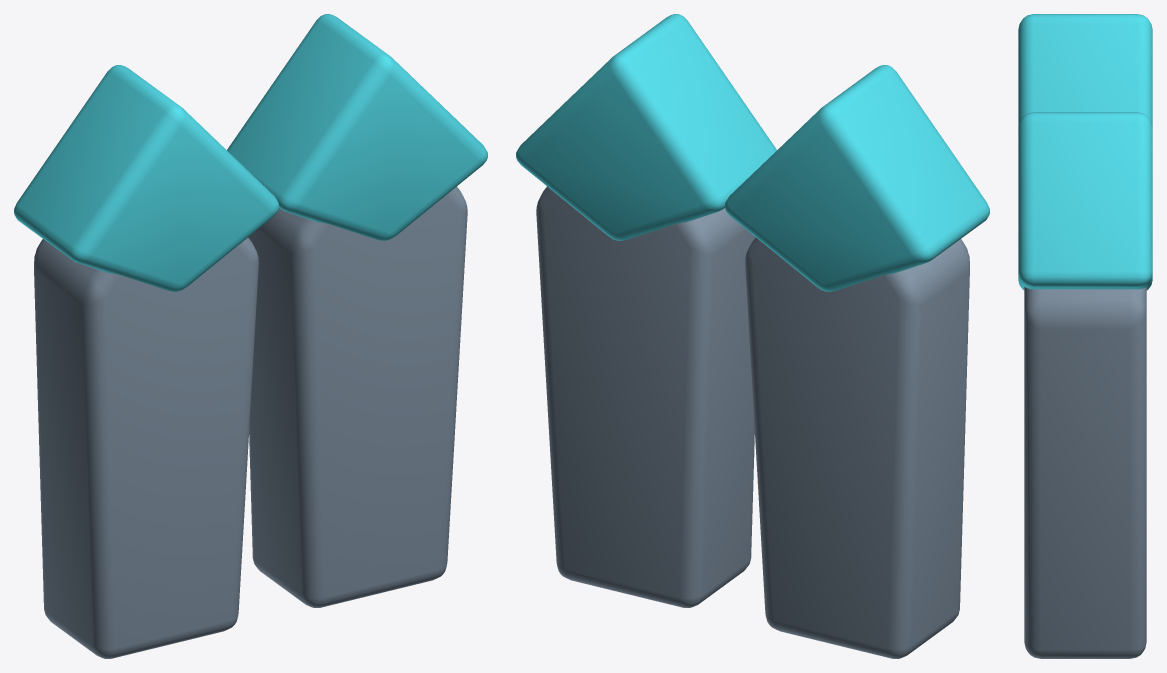
File: greaves_v4.glb
3 views of the same model, side by side, from view 1: azimuth 30°, elevation 25°; view 2: azimuth 150°, elevation 25°; view 3: azimuth 270°, elevation 25° (orthographic). The views are drawn at different scales.
Visible parts, largest first — view 1: WINGED_GREAVE_PRIMARY, WINGED_GREAVE_PRIMARY.001, WINGED_KNEE_ACCENT, WINGED_KNEE_ACCENT.001; view 2: WINGED_GREAVE_PRIMARY, WINGED_GREAVE_PRIMARY.001, WINGED_KNEE_ACCENT, WINGED_KNEE_ACCENT.001; view 3: WINGED_GREAVE_PRIMARY.001, WINGED_KNEE_ACCENT.001, WINGED_KNEE_ACCENT.
Part boxes in pixels (x1=…): WINGED_GREAVE_PRIMARY: x1=34, y1=237, x2=258, y2=658; WINGED_GREAVE_PRIMARY.001: x1=248, y1=186, x2=467, y2=607; WINGED_KNEE_ACCENT: x1=14, y1=65, x2=278, y2=291; WINGED_KNEE_ACCENT.001: x1=227, y1=14, x2=487, y2=240; WINGED_GREAVE_PRIMARY: x1=745, y1=237, x2=969, y2=658; WINGED_GREAVE_PRIMARY.001: x1=536, y1=186, x2=755, y2=607; WINGED_KNEE_ACCENT: x1=725, y1=65, x2=989, y2=291; WINGED_KNEE_ACCENT.001: x1=516, y1=14, x2=776, y2=240; WINGED_GREAVE_PRIMARY.001: x1=1024, y1=287, x2=1146, y2=658; WINGED_KNEE_ACCENT.001: x1=1018, y1=112, x2=1152, y2=290; WINGED_KNEE_ACCENT: x1=1018, y1=14, x2=1152, y2=126.
Size of the model in its own units: 1.52 by 1.88 by 0.44.
